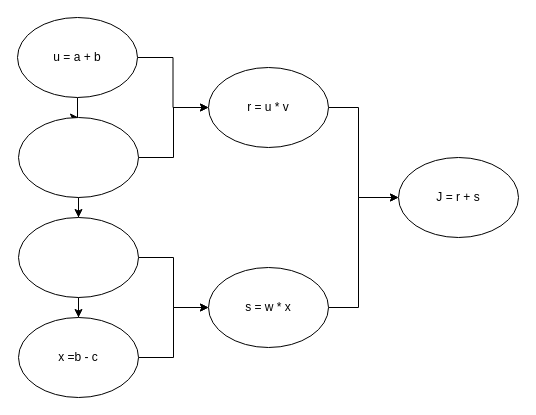
The diagram is 536 pixels wide and 415 high, and some of its shapes have lost their labels. The centre of each missing label's shape, as x and y in pixels:
v =a - b: the point at 78,157
w = b + c: the point at 78,257
